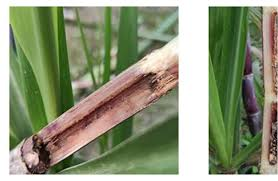Red-Rot: (15, 34, 178, 173), (256, 5, 278, 166)
